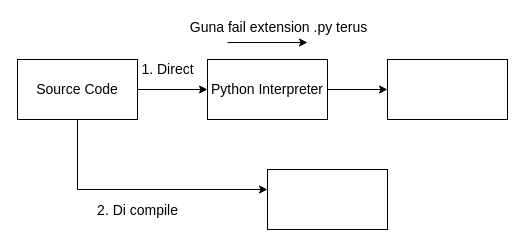
Image size: 525x247. Some labels were removed from this diagram. The shapes that lost their labels are listed below. From the top down, each one's centre as x and y in pixels, then its label:
[447,89]: Output ke layar cth: terminal
[327,199]: Byte Code .pyc
